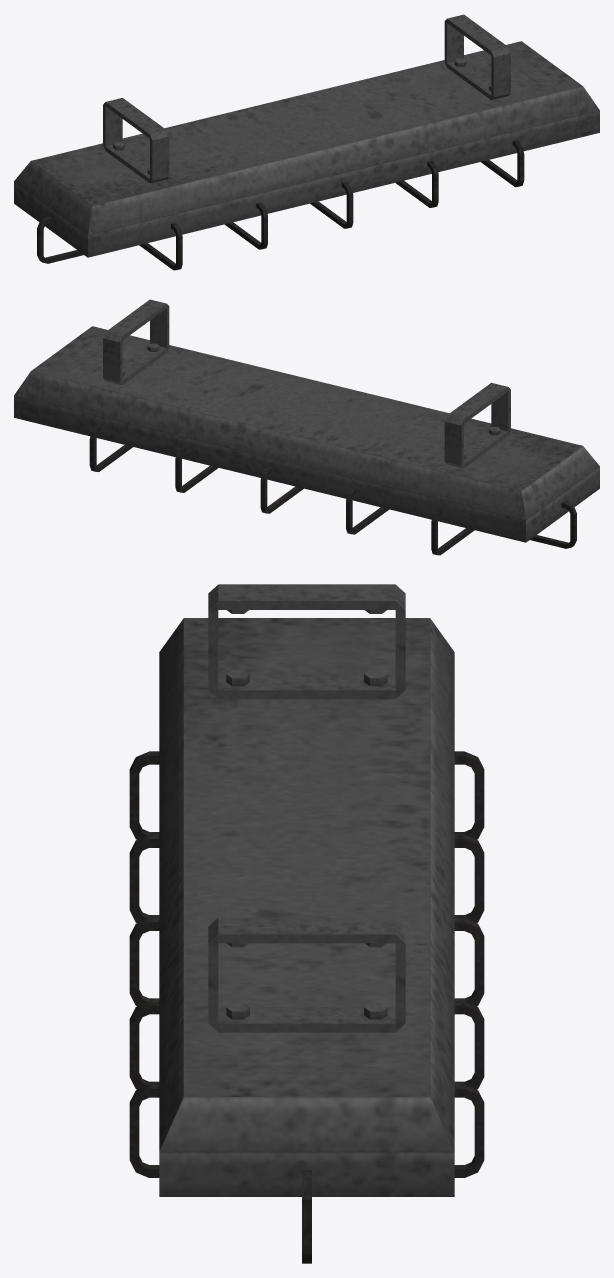
The model's file is ceiling_lamp_4_1_a_off.fbx.
The picture shows the model from 3 angles, top to bottom: view 1: azimuth 30°, elevation 25°; view 2: azimuth 150°, elevation 25°; view 3: azimuth 270°, elevation 25°; orthographic projection. The views are drawn at different scales.
Visible parts, largest first — view 1: ceiling_lamp_4_1_a_off, ceiling_lamp_4_1_a_off_protector; view 2: ceiling_lamp_4_1_a_off, ceiling_lamp_4_1_a_off_protector; view 3: ceiling_lamp_4_1_a_off, ceiling_lamp_4_1_a_off_protector.
Part boxes in pixels (<box>): ceiling_lamp_4_1_a_off: <box>14,14,599,257</box>; ceiling_lamp_4_1_a_off_protector: <box>37,139,524,270</box>; ceiling_lamp_4_1_a_off: <box>14,299,599,542</box>; ceiling_lamp_4_1_a_off_protector: <box>89,424,576,555</box>; ceiling_lamp_4_1_a_off: <box>159,584,454,1196</box>; ceiling_lamp_4_1_a_off_protector: <box>129,751,484,1263</box>.
Size of the model in its own units: 1.26 by 0.28 by 0.36.
